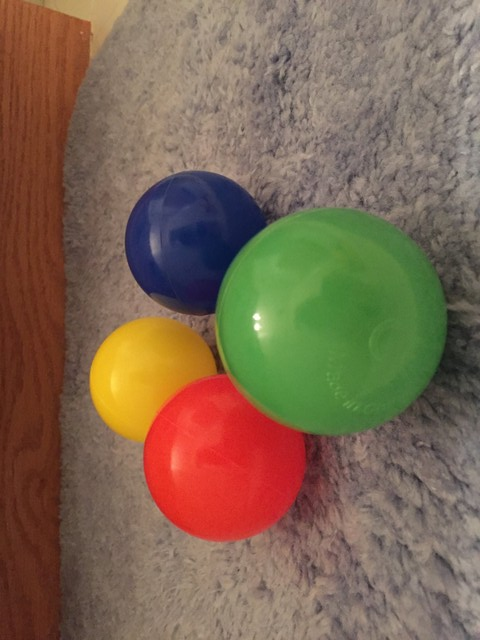Ball: (213, 206, 448, 431)
